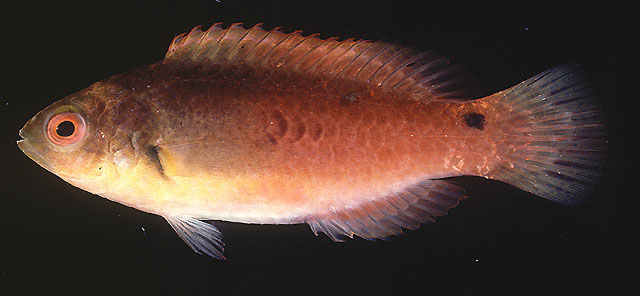fish: (16, 22, 610, 262)
